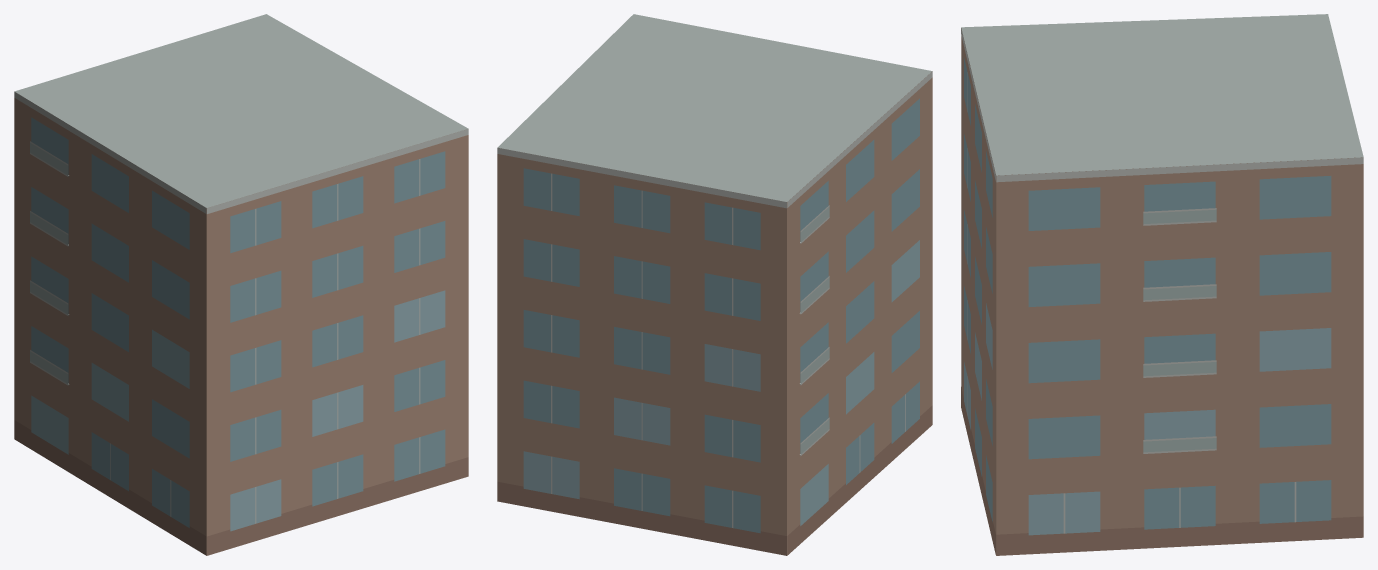
Rendered from survey-upis-32716154.glb.
3 renders of one model, left to right at view 1: azimuth 30°, elevation 25°; view 2: azimuth 150°, elevation 25°; view 3: azimuth 270°, elevation 25°, orthographic. The views are drawn at different scales.
Parts seen in each view (by area): view 1: survey-upis-32716154.tmp; view 2: survey-upis-32716154.tmp; view 3: survey-upis-32716154.tmp.
Boxes of the visible parts, x1,y1,x2,y2 form: survey-upis-32716154.tmp: (14,14,468,555); survey-upis-32716154.tmp: (497,14,932,555); survey-upis-32716154.tmp: (961,14,1363,555).
Bounding box in the file's own units: 12.58 × 13.8 × 13.25.
